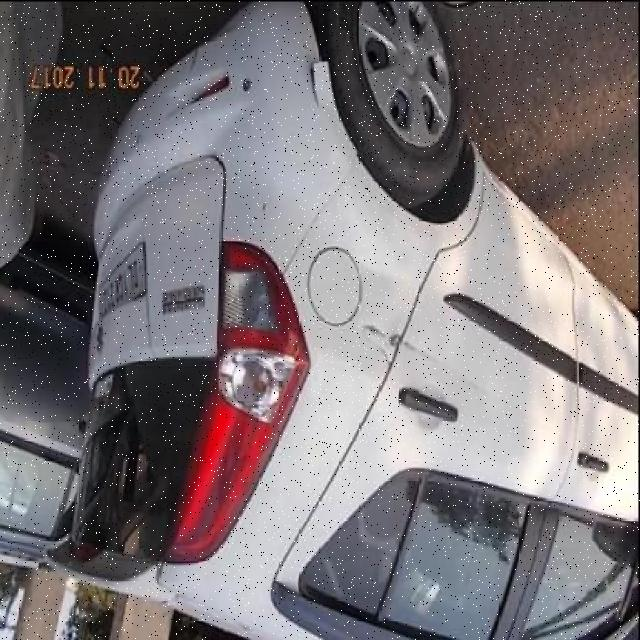damage: (353, 311, 555, 430), (304, 43, 330, 109), (183, 40, 205, 74)
